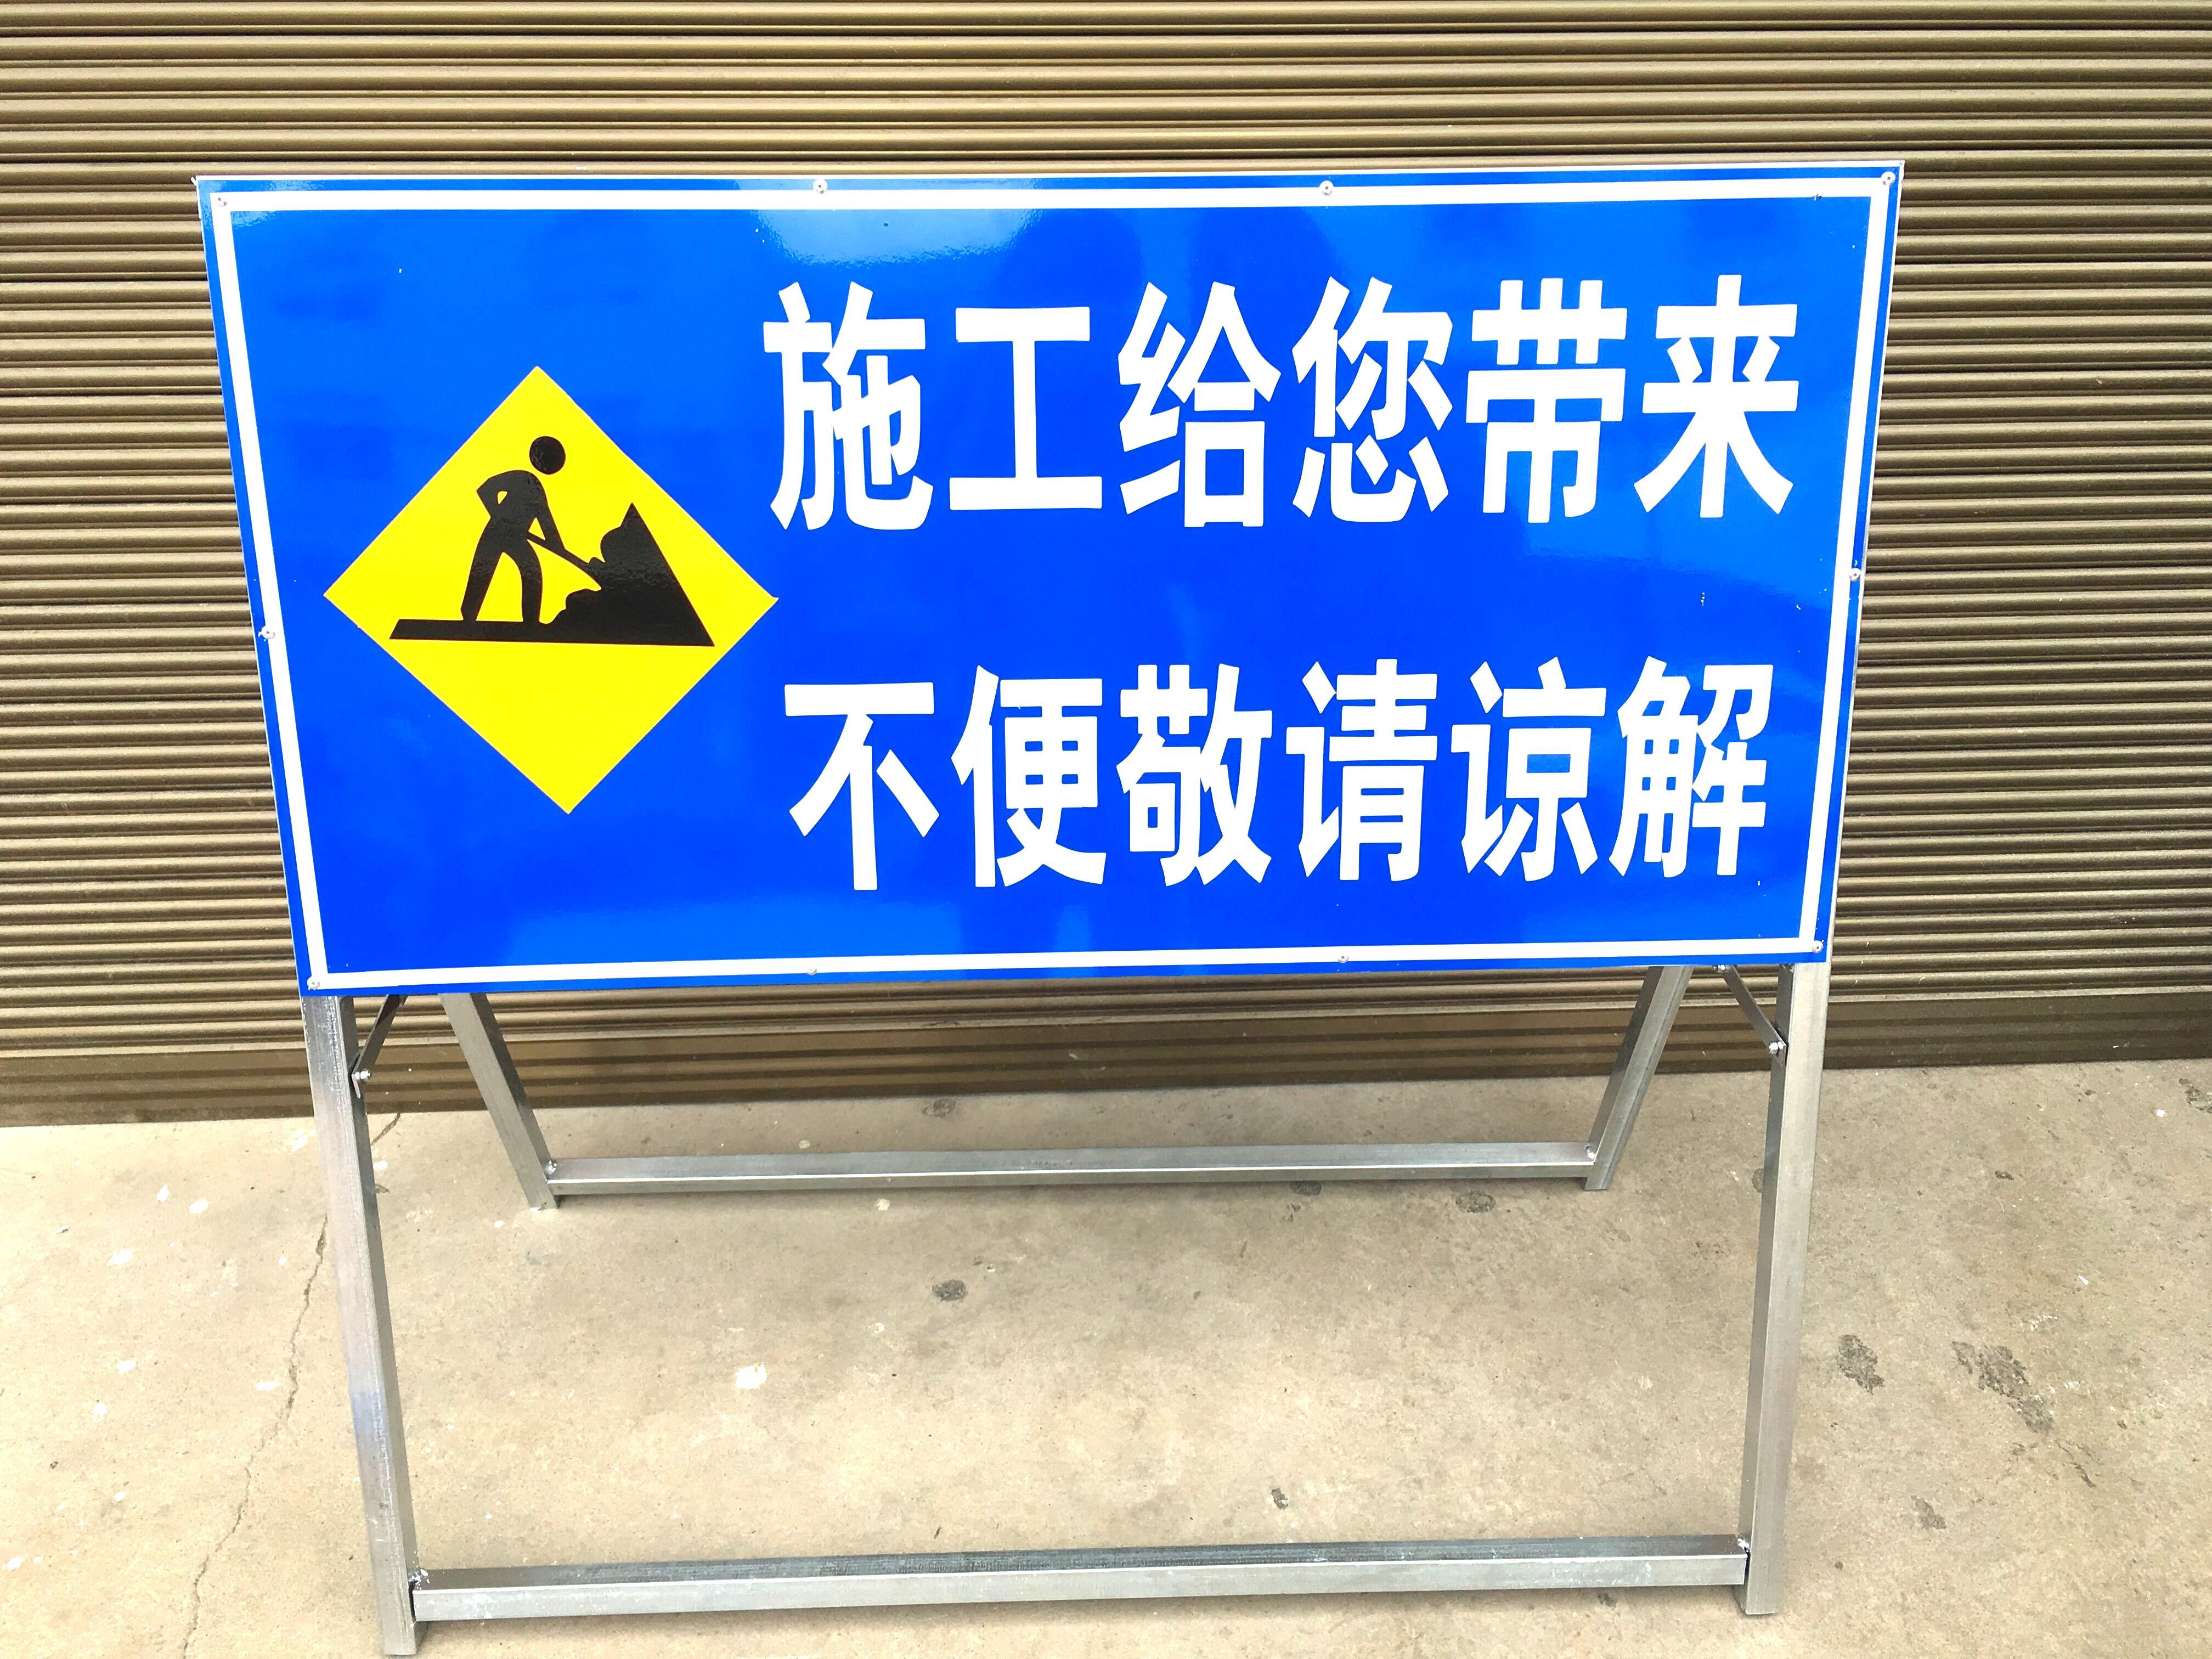sign: (206, 185, 1836, 981)
